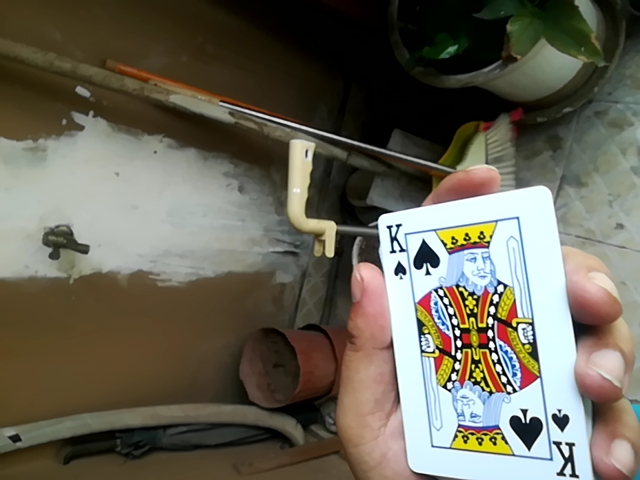ht k: (366, 169, 579, 474)
